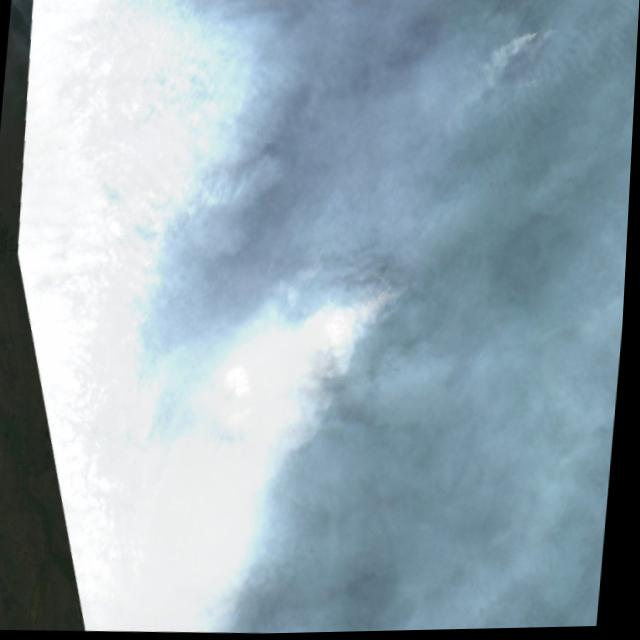fire: (0, 0, 567, 640)
